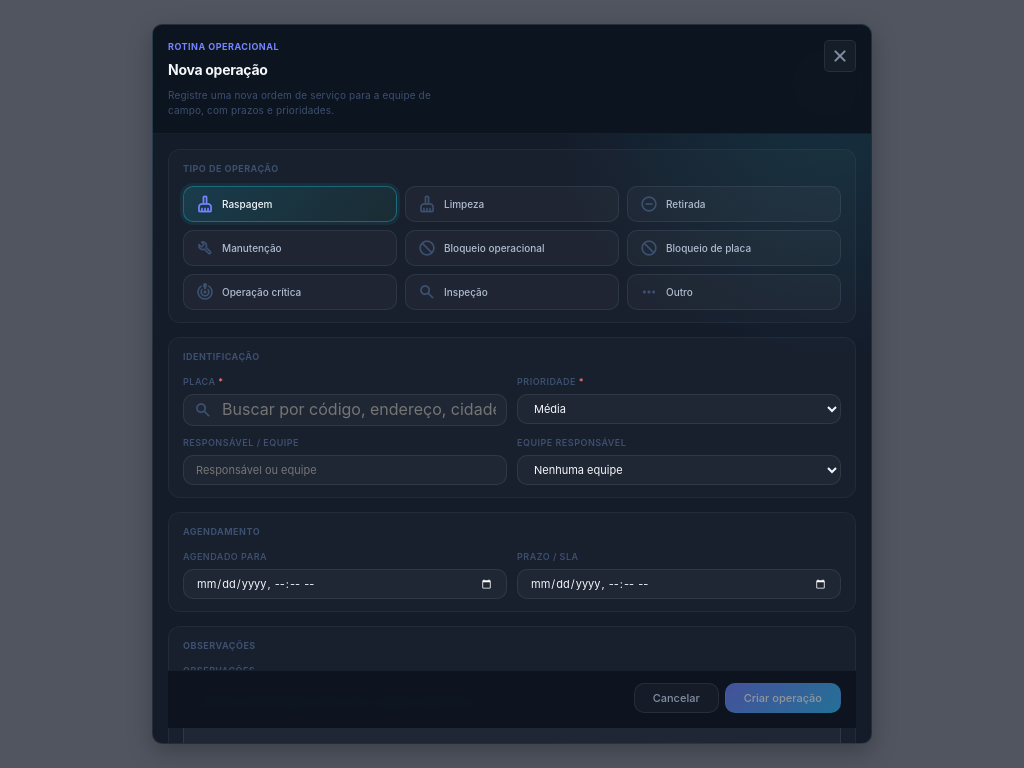
Test: OperationFormModal › carrega placas do inventário e mostra dados amigáveis
The width and height of the screenshot is (1024, 768).
Focus the dropdown labelled "Placa *" at x=359, y=410, box [212,395,506,425]
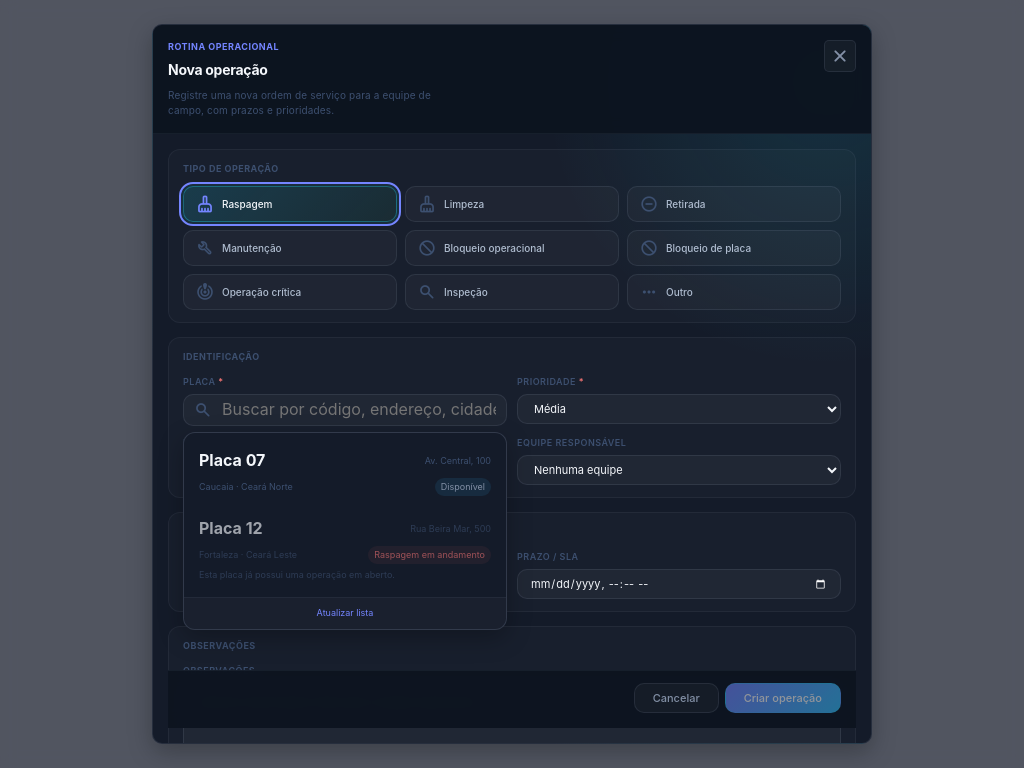
Expected: the text "Placa 07" is shown, [199,448,265,474]
Expected: the text "Av. Central, 100" is shown, [425,454,491,468]
Expected: the text "Caucaia · Ceará Norte" is shown, [199,480,293,492]
